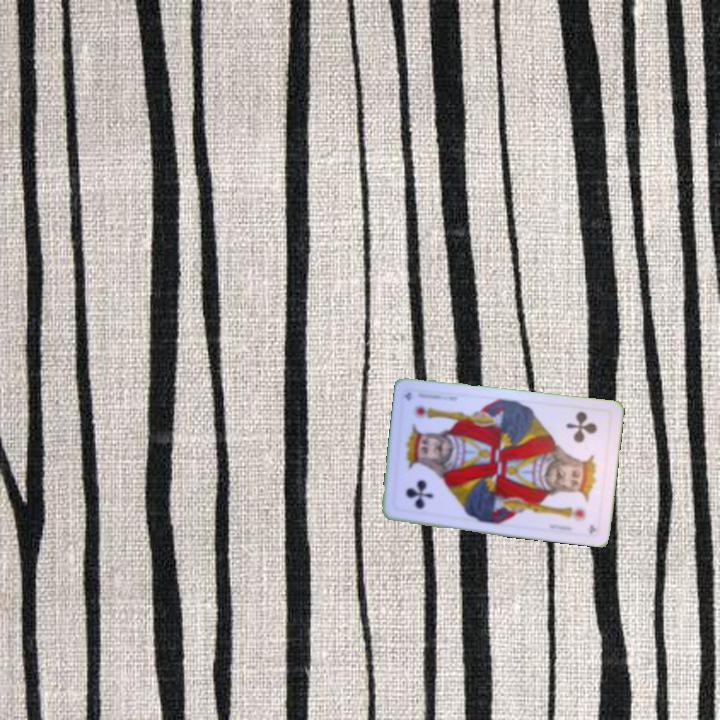c_k.png: (390, 447, 455, 520), (549, 404, 614, 476)
